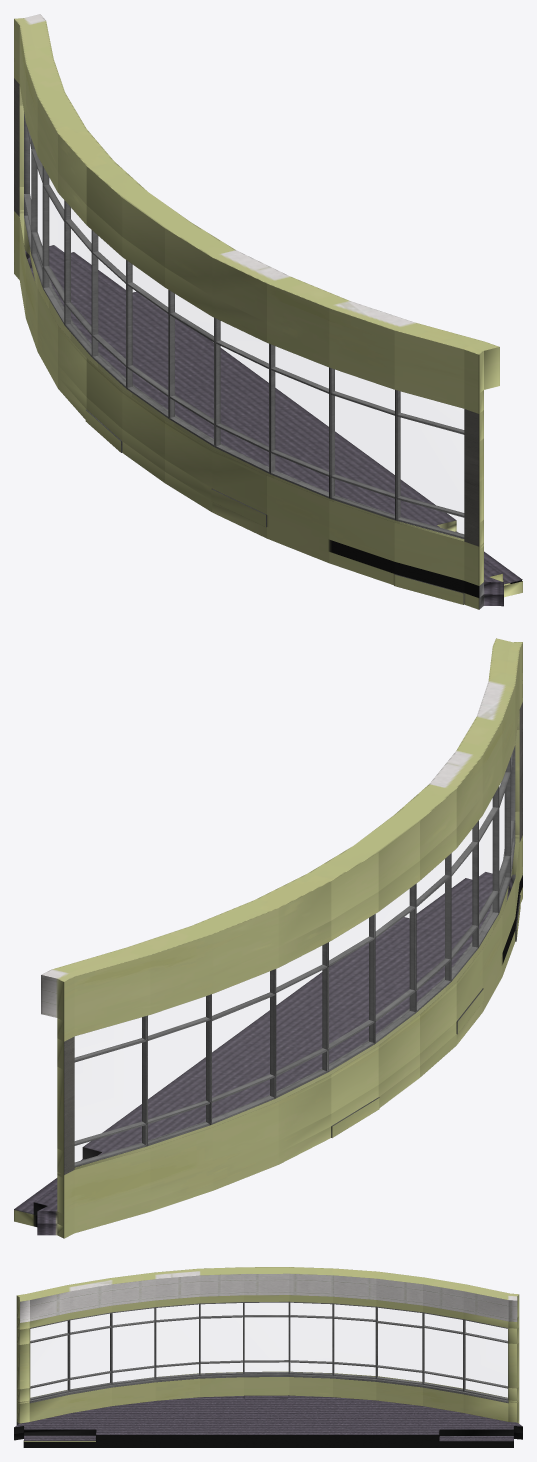
File: PlatformWTextures.fbx
The picture shows the model from 3 angles, top to bottom: view 1: azimuth 30°, elevation 25°; view 2: azimuth 150°, elevation 25°; view 3: azimuth 270°, elevation 25°; orthographic projection. The views are drawn at different scales.
Visible parts, largest first — view 1: polySurface1; view 2: polySurface1; view 3: polySurface1.
Boxes of the visible parts, left/top/right/bottom form: polySurface1: left=14, top=14, right=522, bottom=609; polySurface1: left=14, top=638, right=522, bottom=1238; polySurface1: left=14, top=1267, right=522, bottom=1447.
Size of the model in its own units: 257 by 396 by 1313.
Materials: 2 (1 with a texture image).
